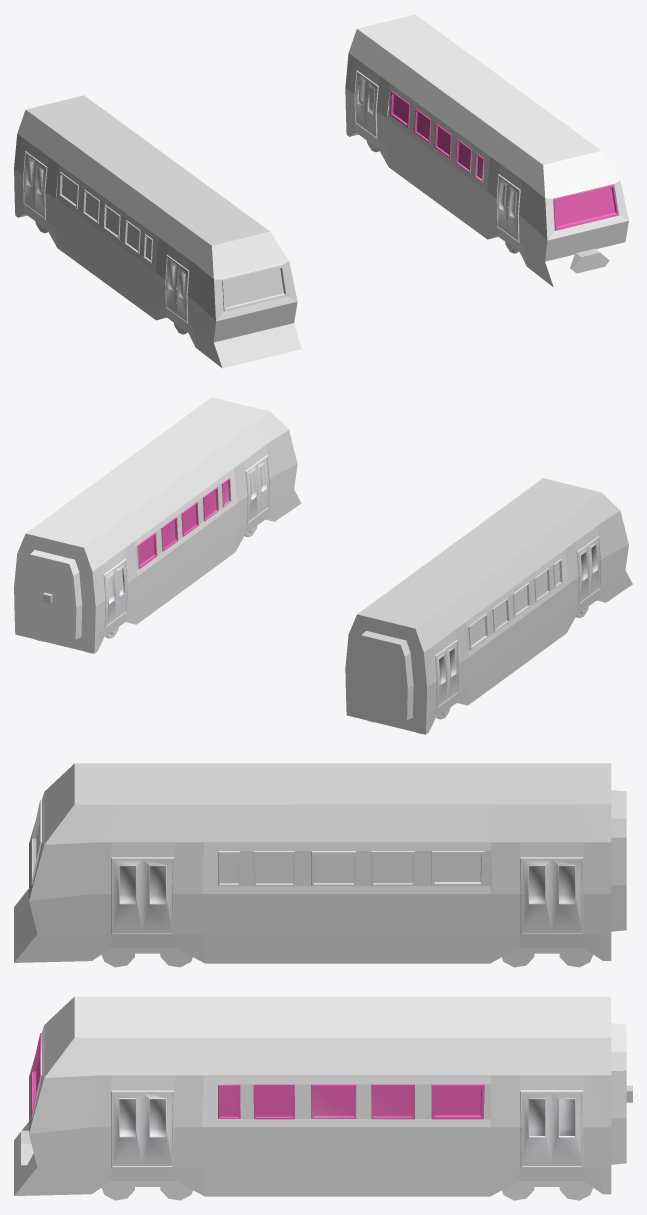
Rendered from Train 4.fbx.
3 views of the same model, one above another, from view 1: azimuth 30°, elevation 25°; view 2: azimuth 150°, elevation 25°; view 3: azimuth 270°, elevation 25° (orthographic). The views are drawn at different scales.
Parts seen in each view (by area): view 1: Cube.004, Cube.005, Cylinder; view 2: Cube.004, Cube.005; view 3: Cube.004, Cube.005.
Boxes of the visible parts, x1,y1,x2,y2 form: Cube.004: (14,95,301,368); Cube.005: (345,14,632,287); Cylinder: (570,248,609,273); Cube.004: (345,478,632,734); Cube.005: (14,397,301,653); Cube.004: (14,763,626,967); Cube.005: (14,996,626,1200).
Size of the model in its own units: 2693 by 712 by 2413.
